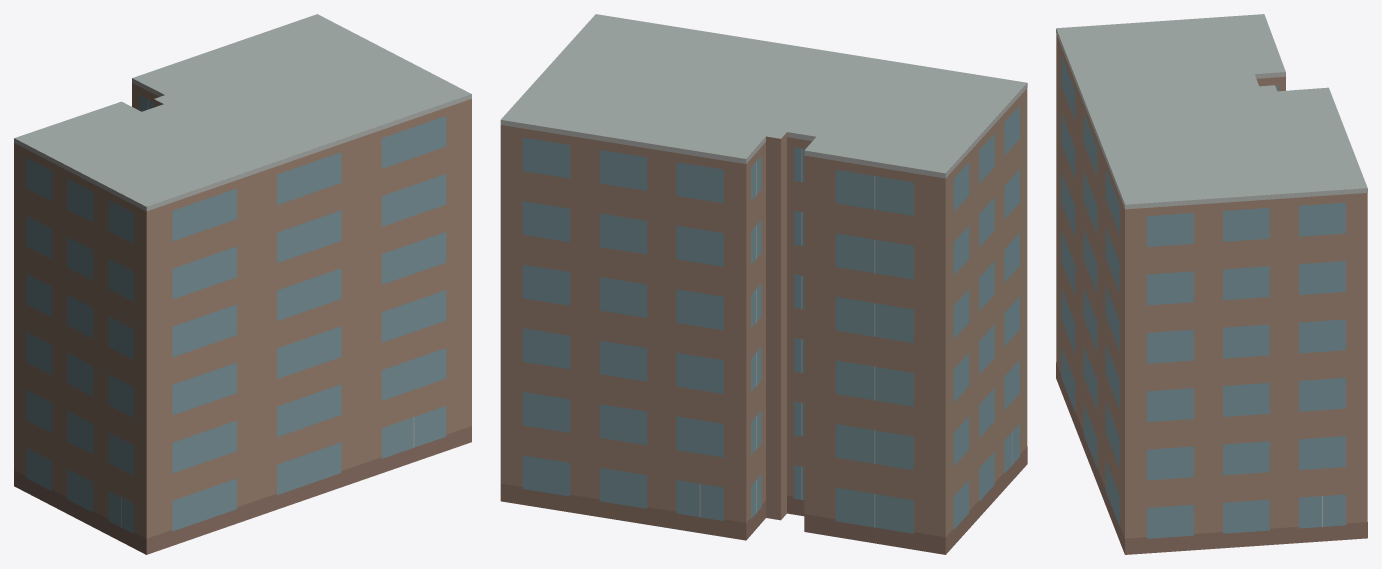
The model's file is survey-upis-32942236.glb.
3 renders of one model, left to right at view 1: azimuth 30°, elevation 25°; view 2: azimuth 150°, elevation 25°; view 3: azimuth 270°, elevation 25°, orthographic. The views are drawn at different scales.
Visible parts, largest first — view 1: survey-upis-32942236.tmp; view 2: survey-upis-32942236.tmp; view 3: survey-upis-32942236.tmp.
Part boxes in pixels (<box>): survey-upis-32942236.tmp: <box>14,14,471,554</box>; survey-upis-32942236.tmp: <box>500,14,1027,554</box>; survey-upis-32942236.tmp: <box>1056,14,1367,554</box>.
Bounding box in the file's own units: 21.39 × 18.3 × 14.77.
